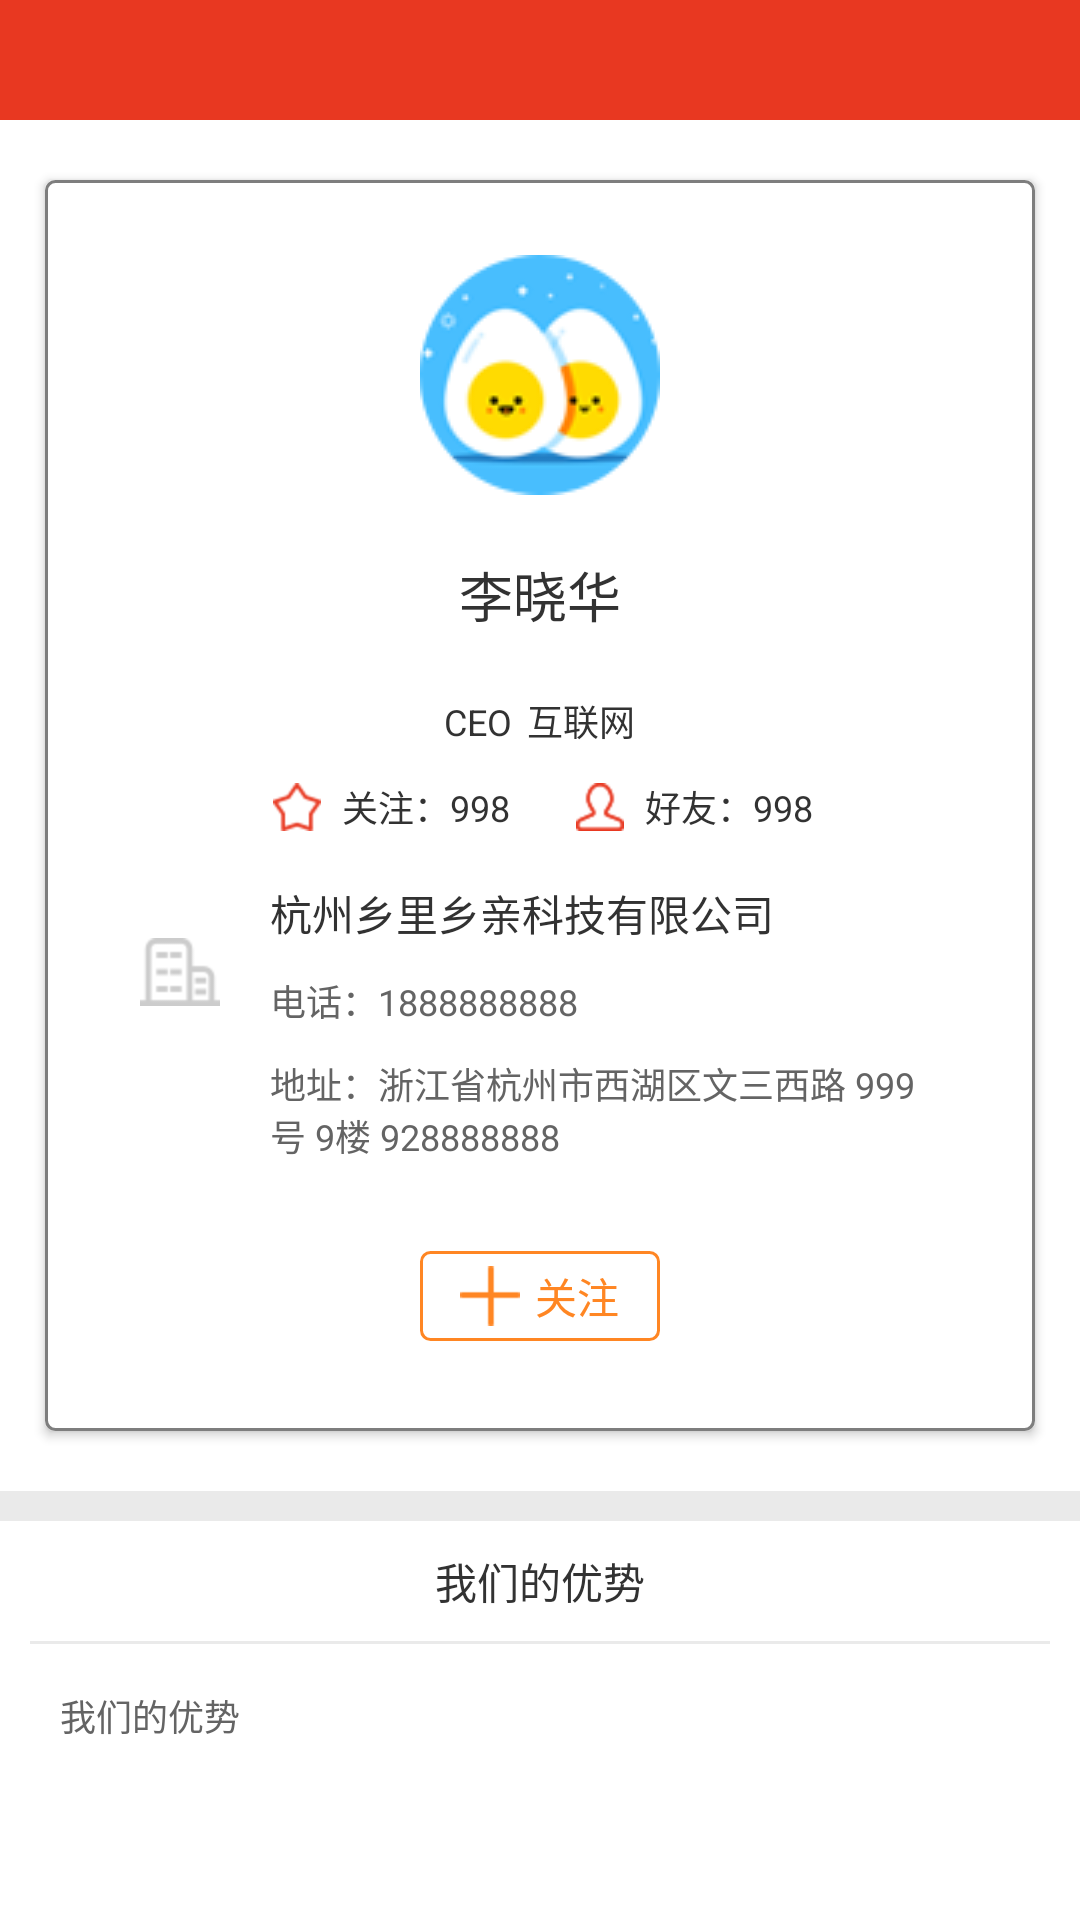

Screen size 1080px×1920px. Icon name, then its center in pixels as point (x, y):
card company: point (180, 972)
find request head: point (540, 375)
